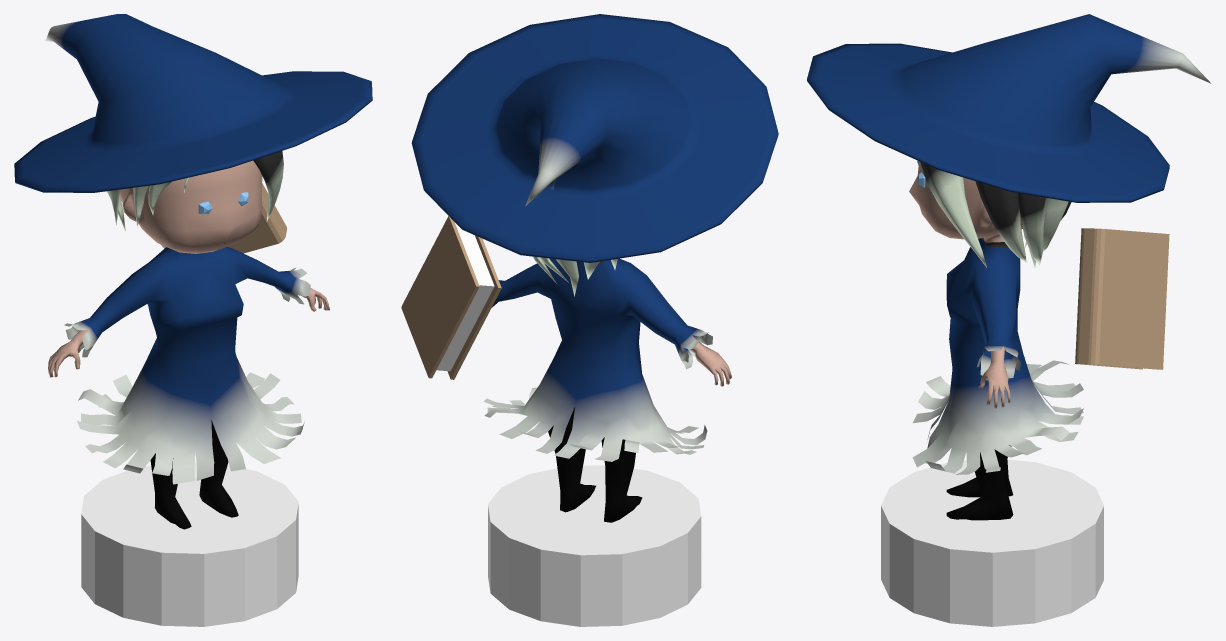
The model's file is pandora.glb.
The picture shows the model from 3 angles, left to right: view 1: azimuth 30°, elevation 25°; view 2: azimuth 150°, elevation 25°; view 3: azimuth 270°, elevation 25°; orthographic projection. The views are drawn at different scales.
Visible parts, largest first — view 1: hair; view 2: hair; view 3: hair.
Boxes of the visible parts, left/top/right/bottom form: hair: left=14, top=14, right=372, bottom=626; hair: left=401, top=14, right=778, bottom=626; hair: left=807, top=14, right=1211, bottom=626.
Bounding box in the file's own units: 0.8917 × 1.42 × 0.9564.
1 material, 1 textured.
